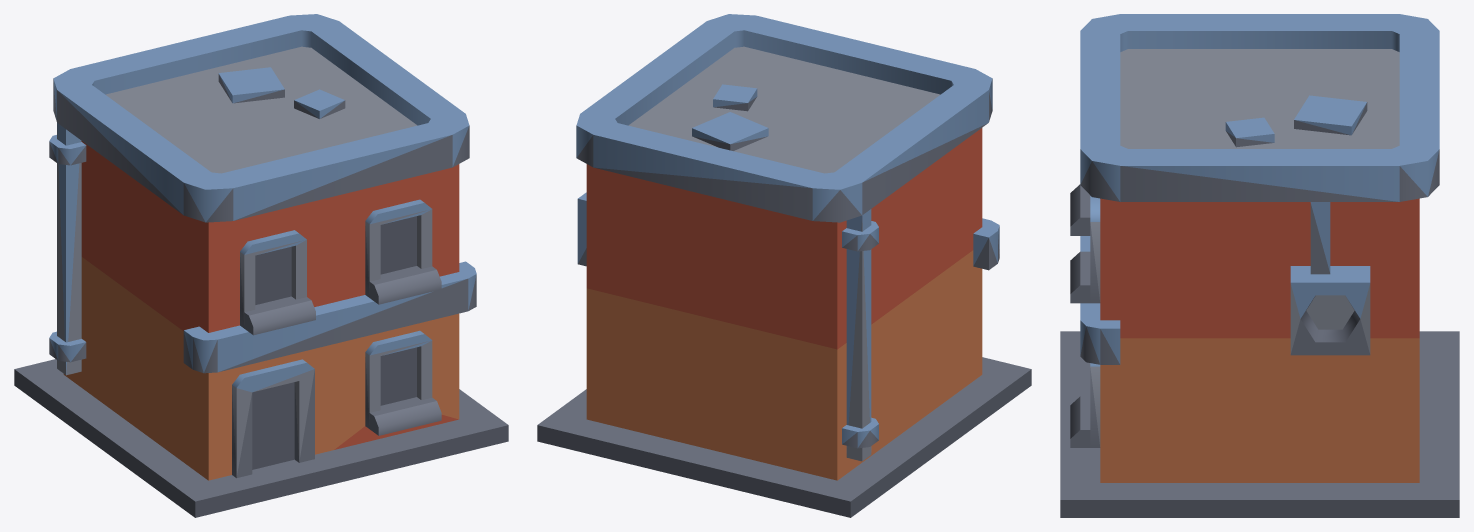
The model's file is building-small-a.glb.
The picture shows the model from 3 angles, left to right: view 1: azimuth 30°, elevation 25°; view 2: azimuth 150°, elevation 25°; view 3: azimuth 270°, elevation 25°; orthographic projection. The views are drawn at different scales.
Visible parts, largest first — view 1: building-small-a; view 2: building-small-a; view 3: building-small-a.
Boxes of the visible parts, x1,y1,x2,y2 form: building-small-a: (14, 14, 508, 517); building-small-a: (537, 14, 1031, 517); building-small-a: (1060, 14, 1459, 517).
Bounding box in the file's own units: 12 × 11.4 × 12.
